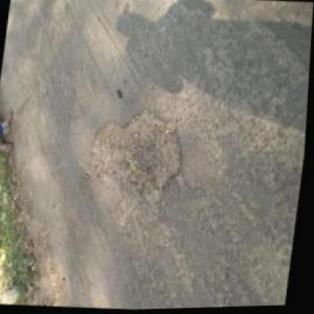Hueco: (82, 104, 192, 210), (68, 105, 90, 135)
